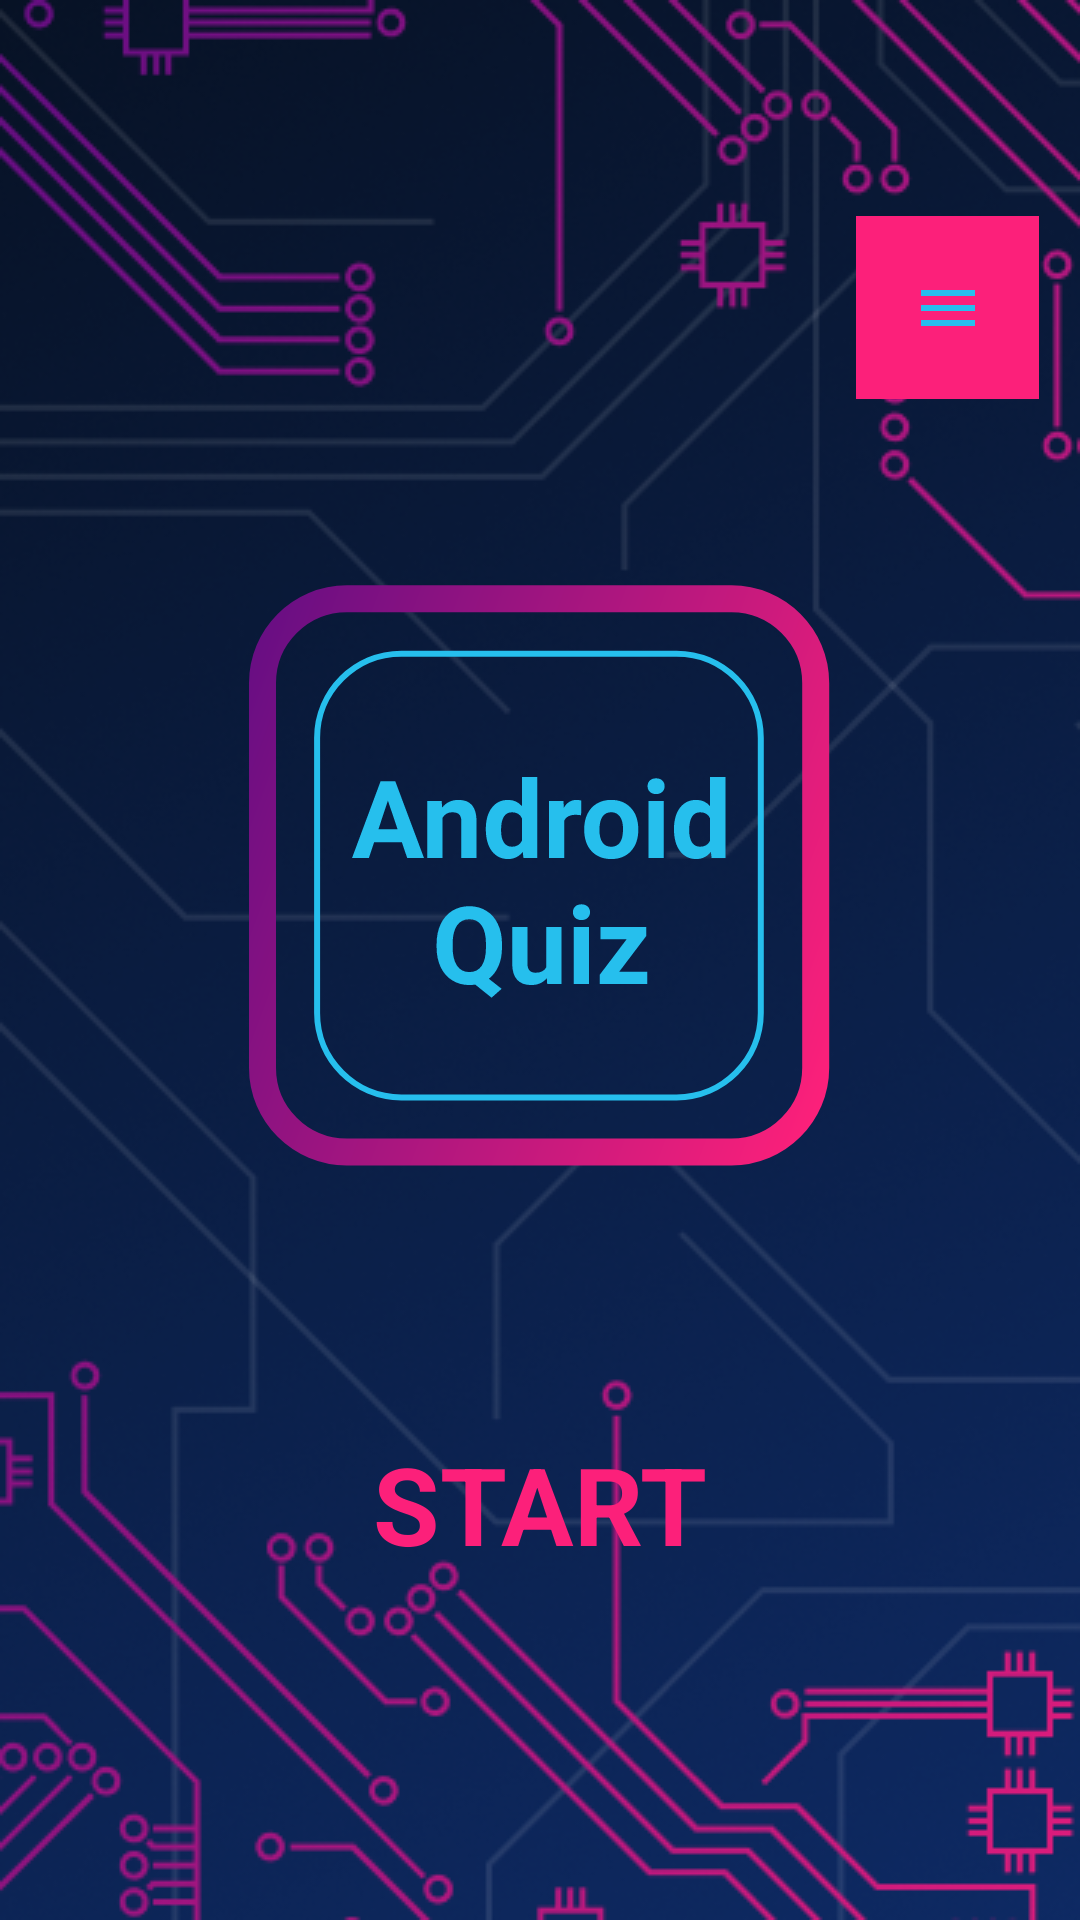

Screen size 1080px x 1920px. Icon name, then its center in pixels as point (x, y):
menu: point (947, 307)
